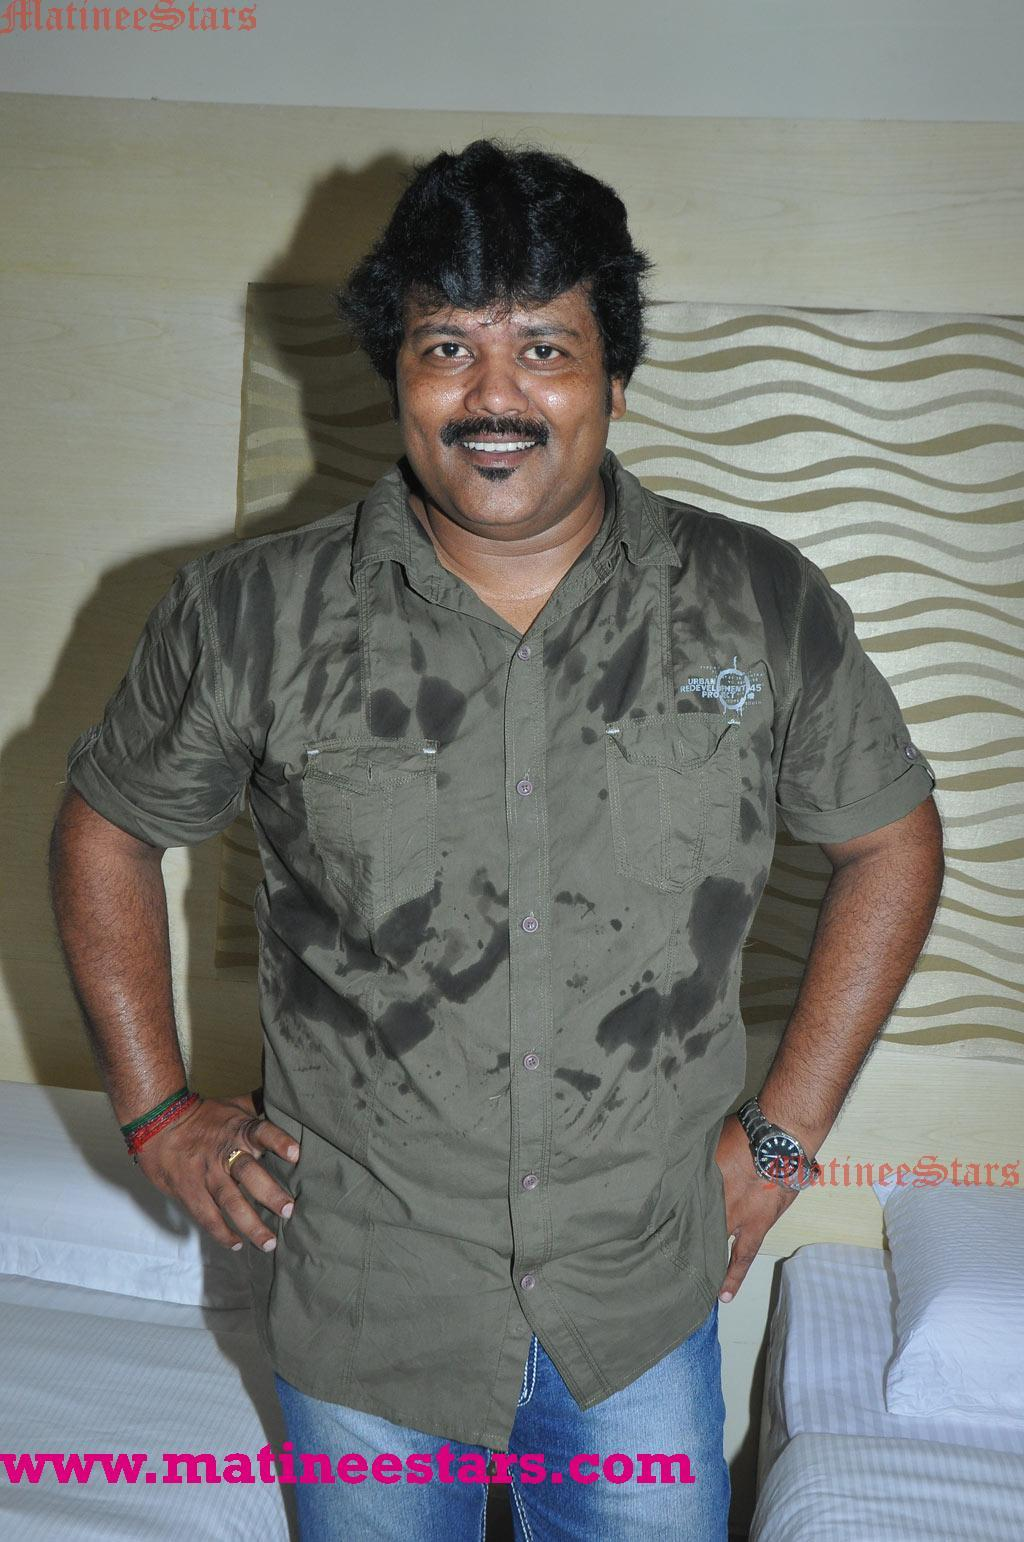face: (410, 253, 603, 539)
